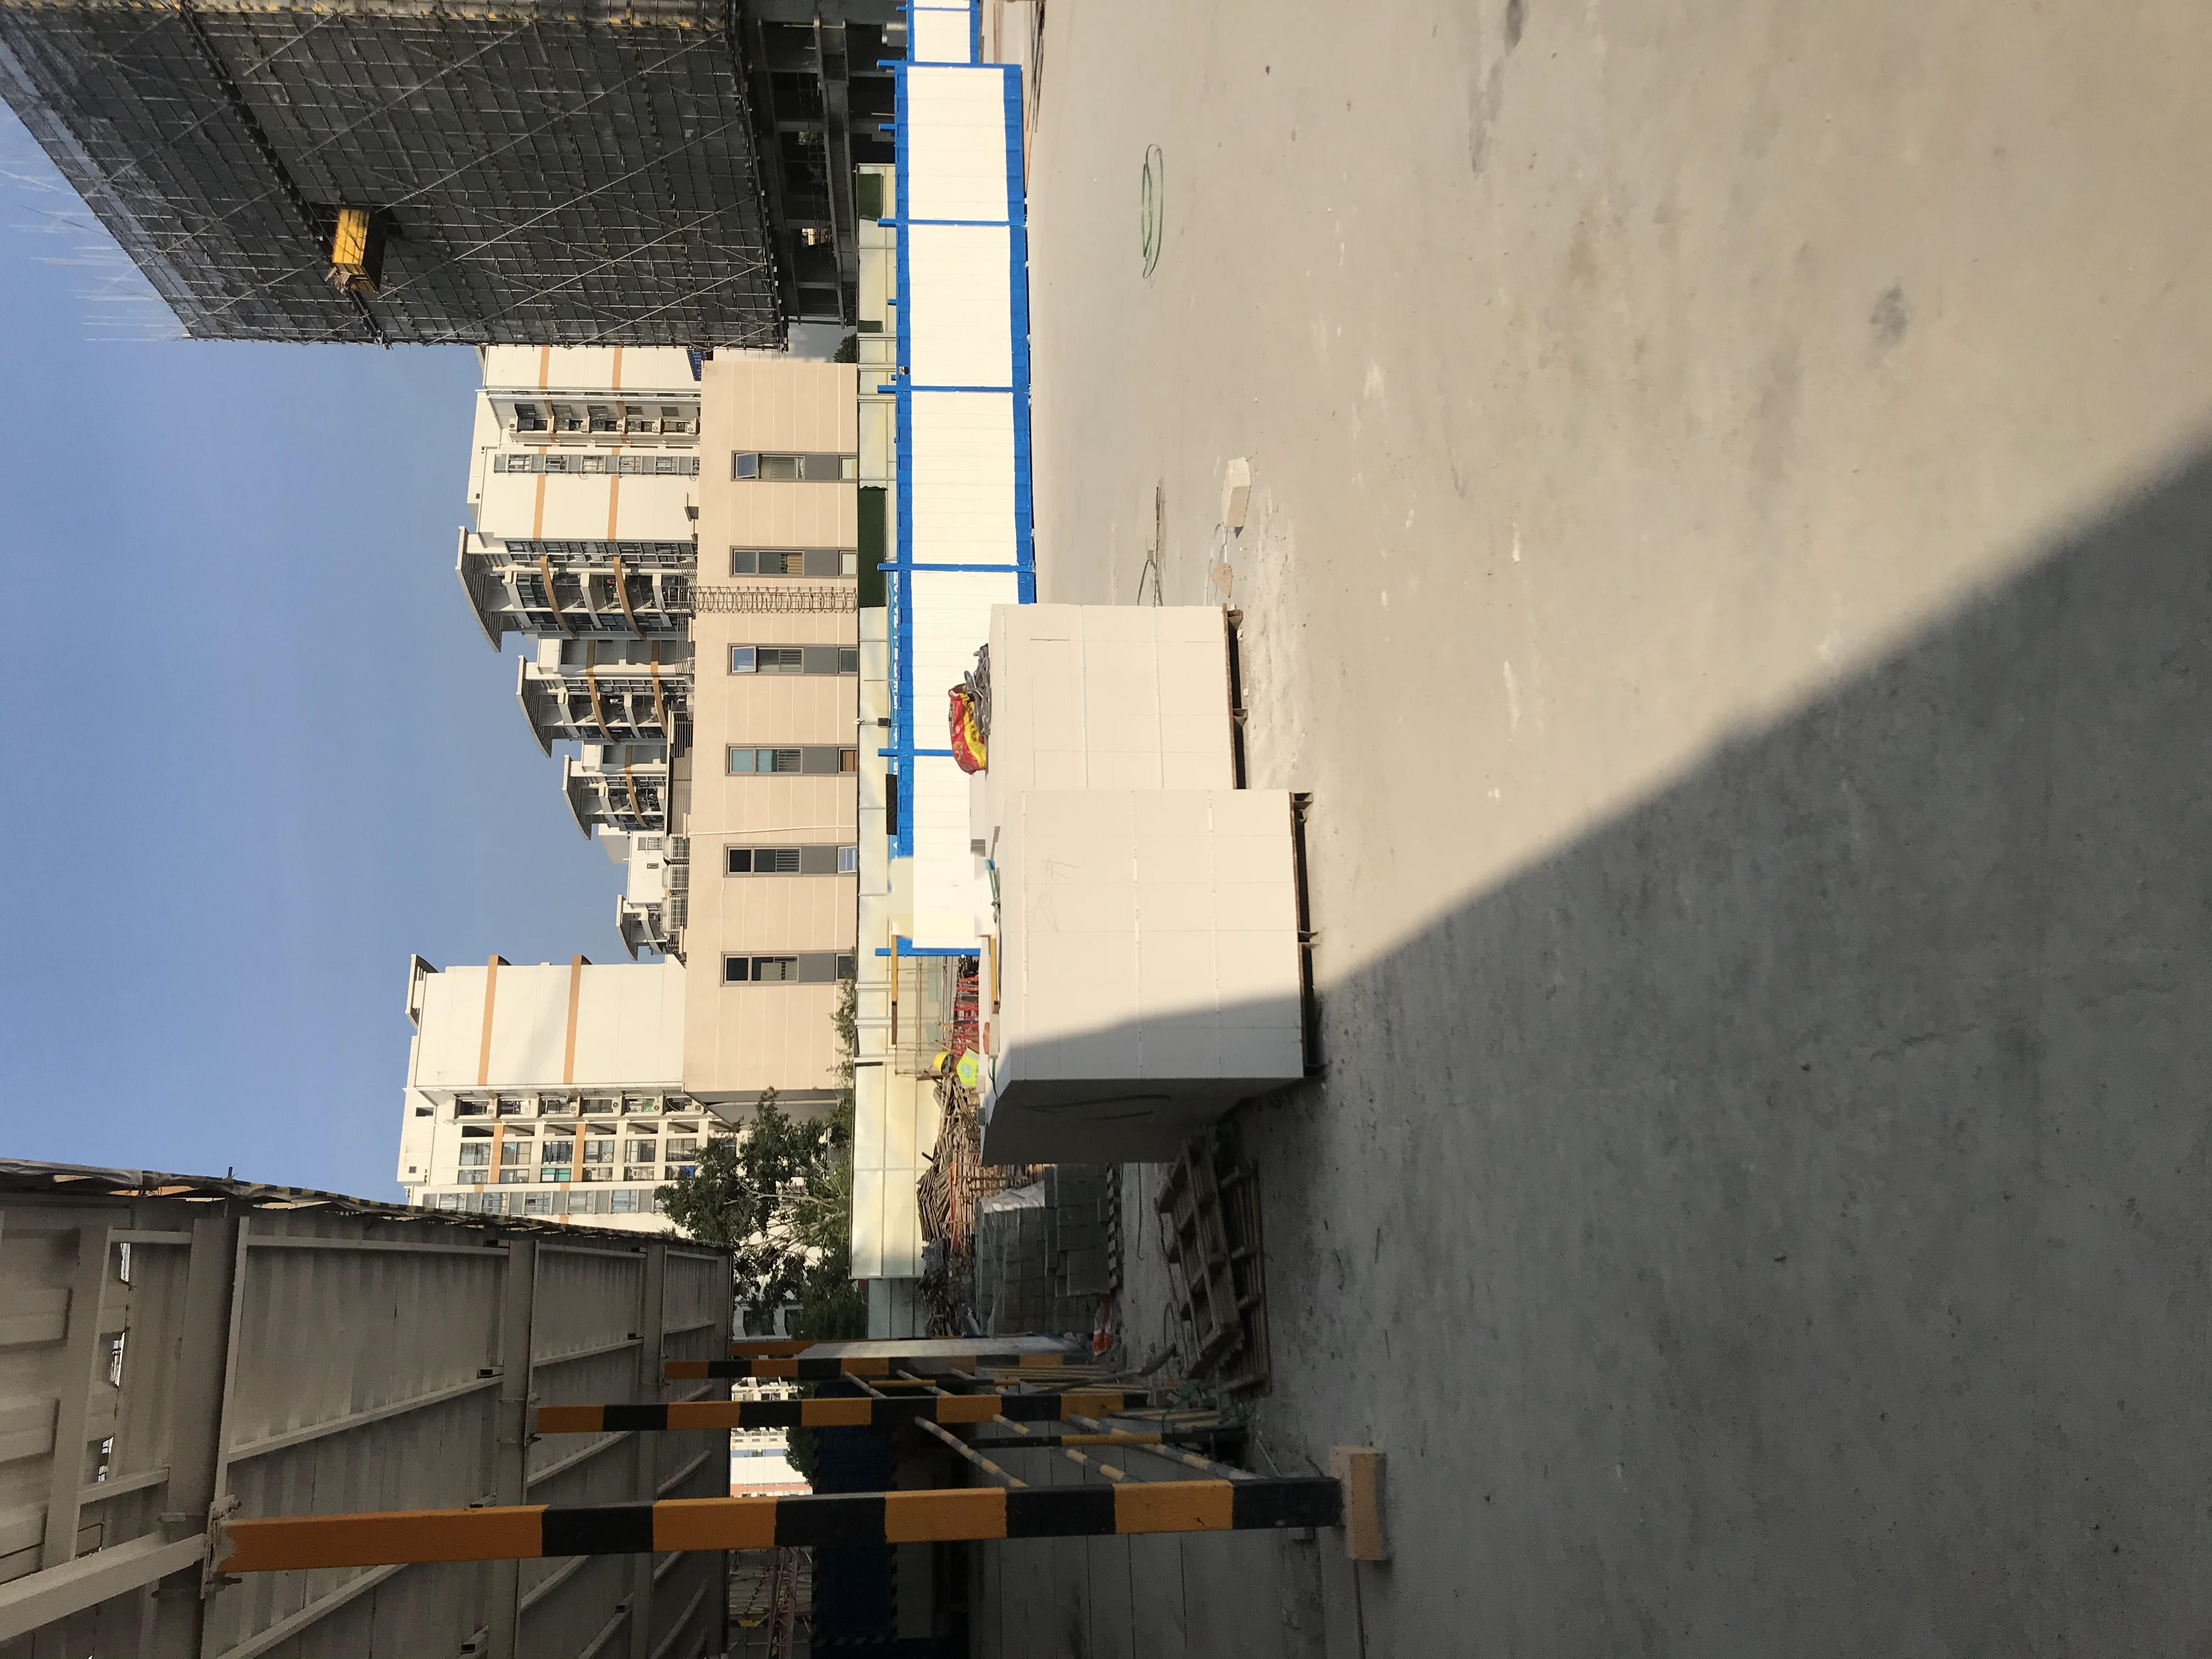brick: (981, 602, 1318, 1156)
helmet: (934, 1052, 951, 1074)
person: (934, 1042, 978, 1089)
